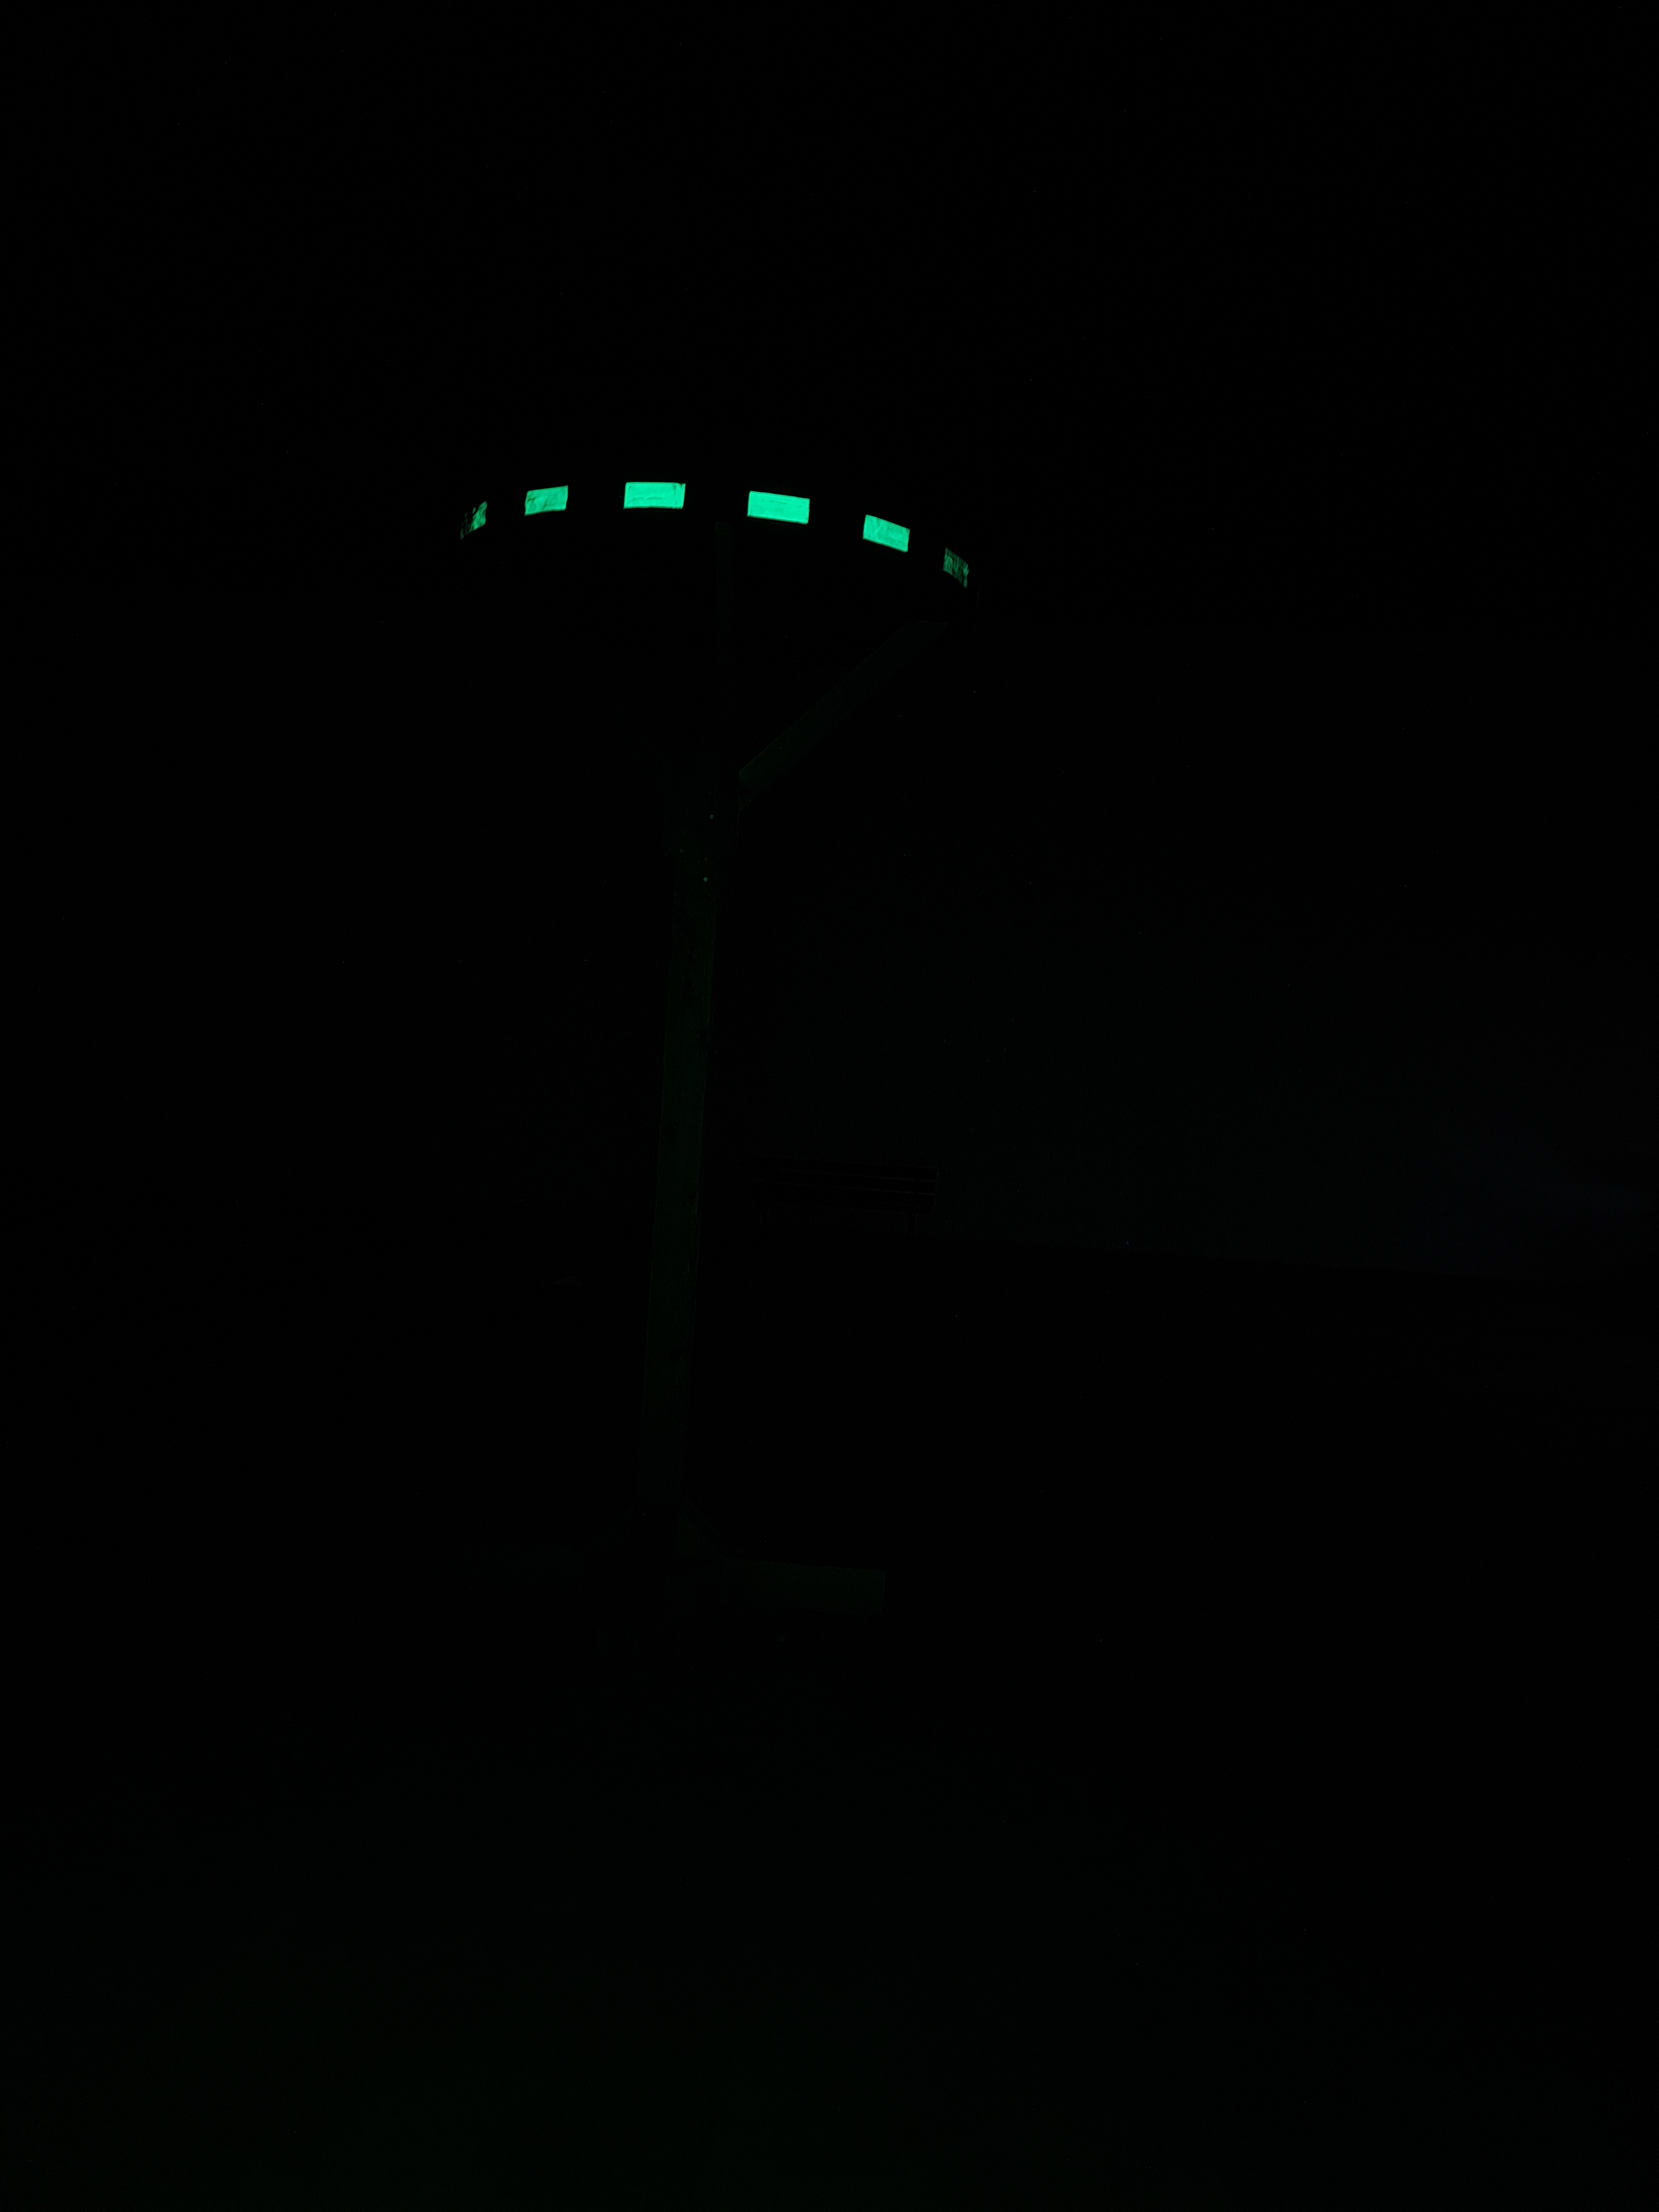hoop: (455, 469, 978, 604)
